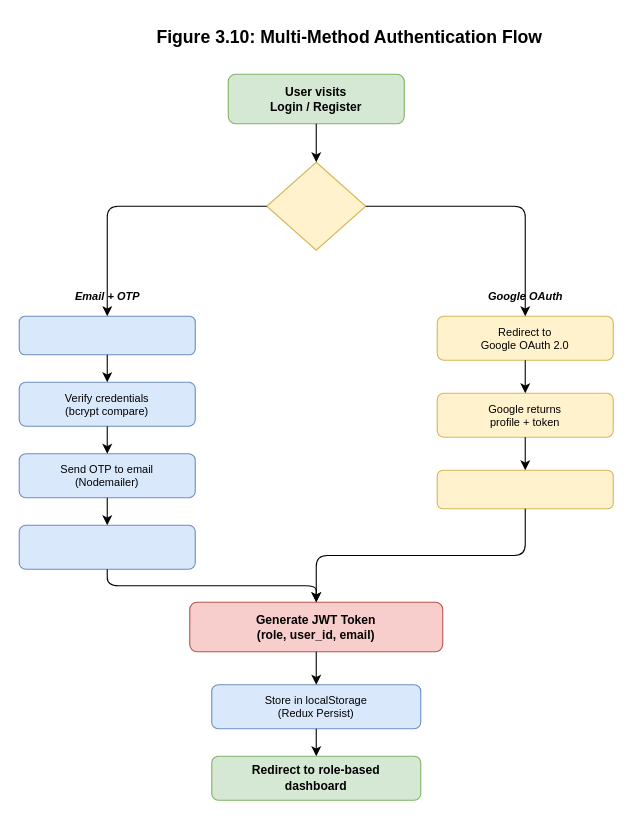
Some shapes in this 633 by 820 pixel diagram are drawn without their labels. The box of each missing label's shape, as (x1, y1, x2, y2) in pixels:
Auth Method?: (266, 161, 366, 250)
Enter Email + Password: (18, 315, 195, 355)
Find or create user account: (436, 469, 613, 509)
User enters OTP Verify against hash: (18, 524, 195, 569)
